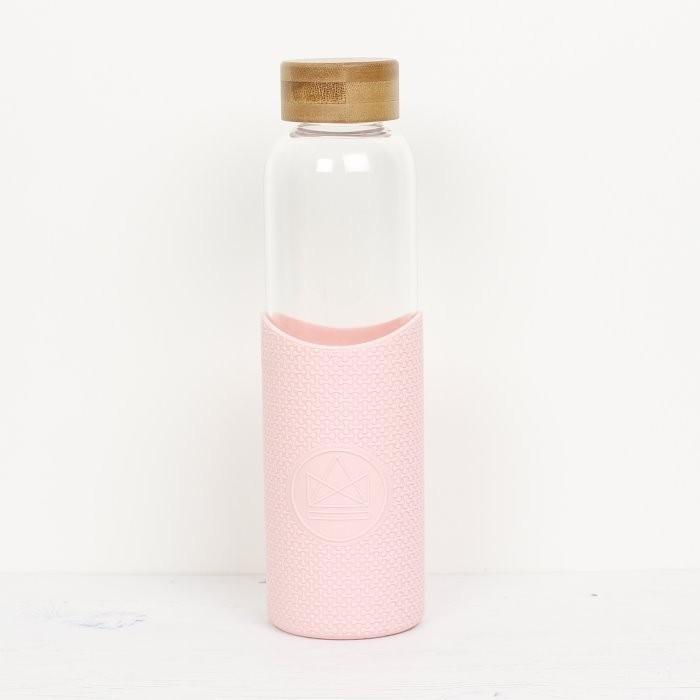gym bottle: (256, 50, 430, 644)
